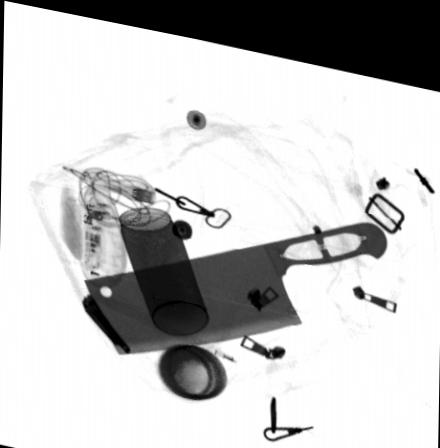Knife: (82, 205, 389, 349)
